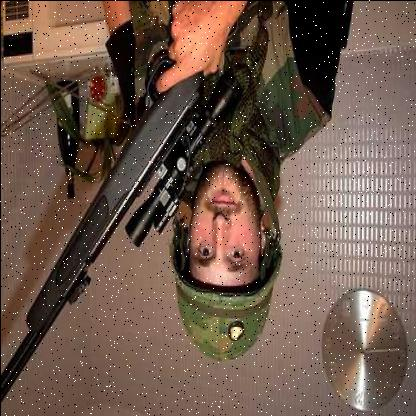rifle: (12, 45, 249, 396)
